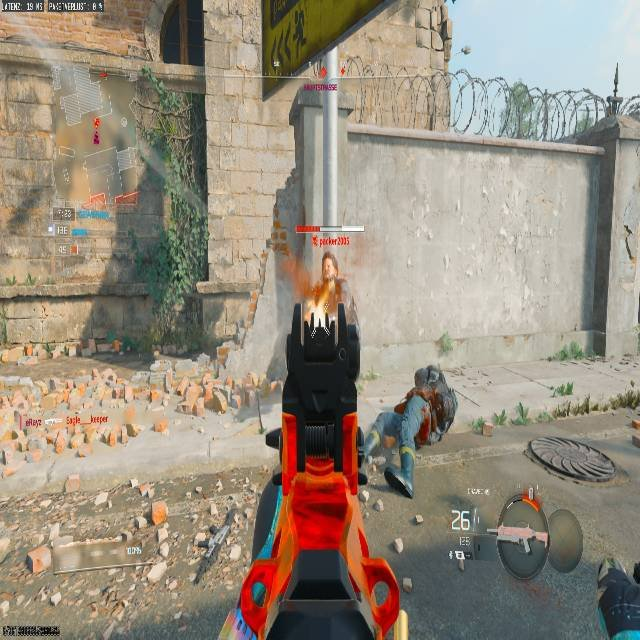head: (321, 253, 338, 277)
player: (302, 253, 355, 332)
